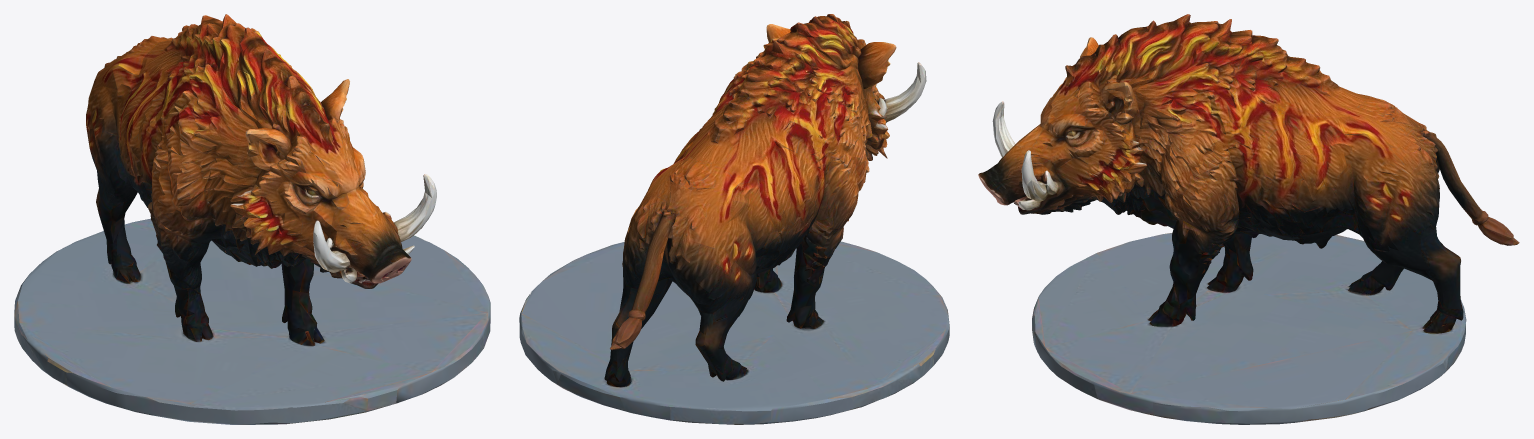
File: hogbad.glb
The picture shows the model from 3 angles, left to right: view 1: azimuth 30°, elevation 25°; view 2: azimuth 150°, elevation 25°; view 3: azimuth 270°, elevation 25°; orthographic projection. The views are drawn at different scales.
Parts seen in each view (by area): view 1: output_unwrapped; view 2: output_unwrapped; view 3: output_unwrapped.
Part boxes in pixels (left/top/right/bottom): output_unwrapped: left=14, top=14, right=490, bottom=424; output_unwrapped: left=519, top=14, right=949, bottom=424; output_unwrapped: left=978, top=14, right=1519, bottom=424.
Size of the model in its own units: 1.53 by 1.18 by 1.9.
1 material, 1 textured.
